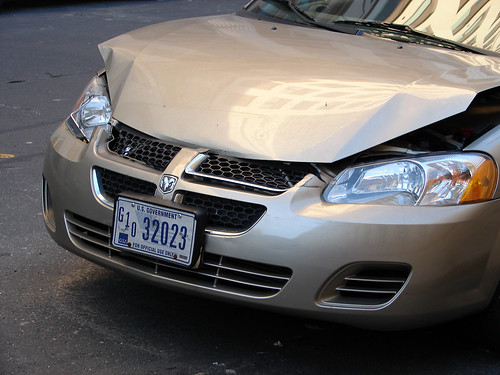car: (34, 1, 500, 320)
